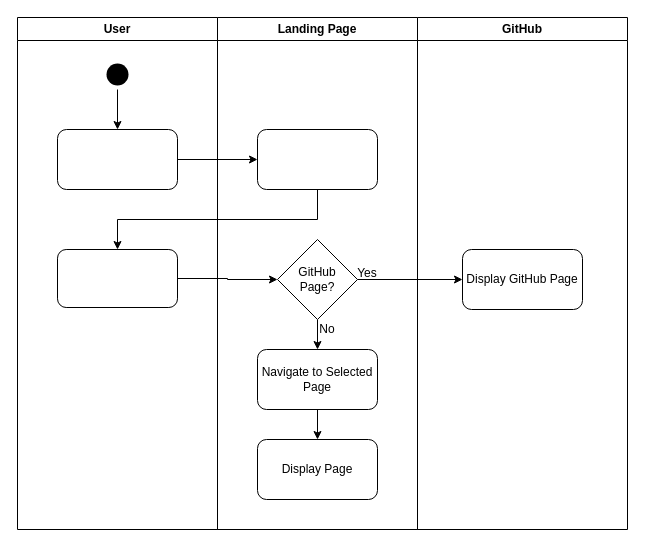
Some shapes in this 645 by 547 pixel diagram are drawn without their labels. Each missing label, with the centre of its shape:
"List Instructions and Other Pages" belongs at point 317,159.
"User Navigates to Website" belongs at point 117,159.
"User Selects Page" belongs at point 117,278.
